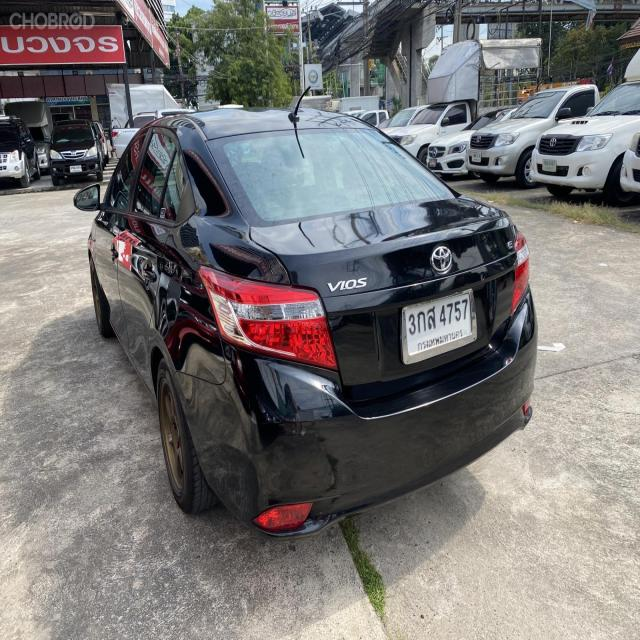license_plate: (400, 286, 480, 366), (541, 156, 557, 173), (68, 162, 86, 175), (470, 151, 483, 165), (429, 158, 438, 168)
